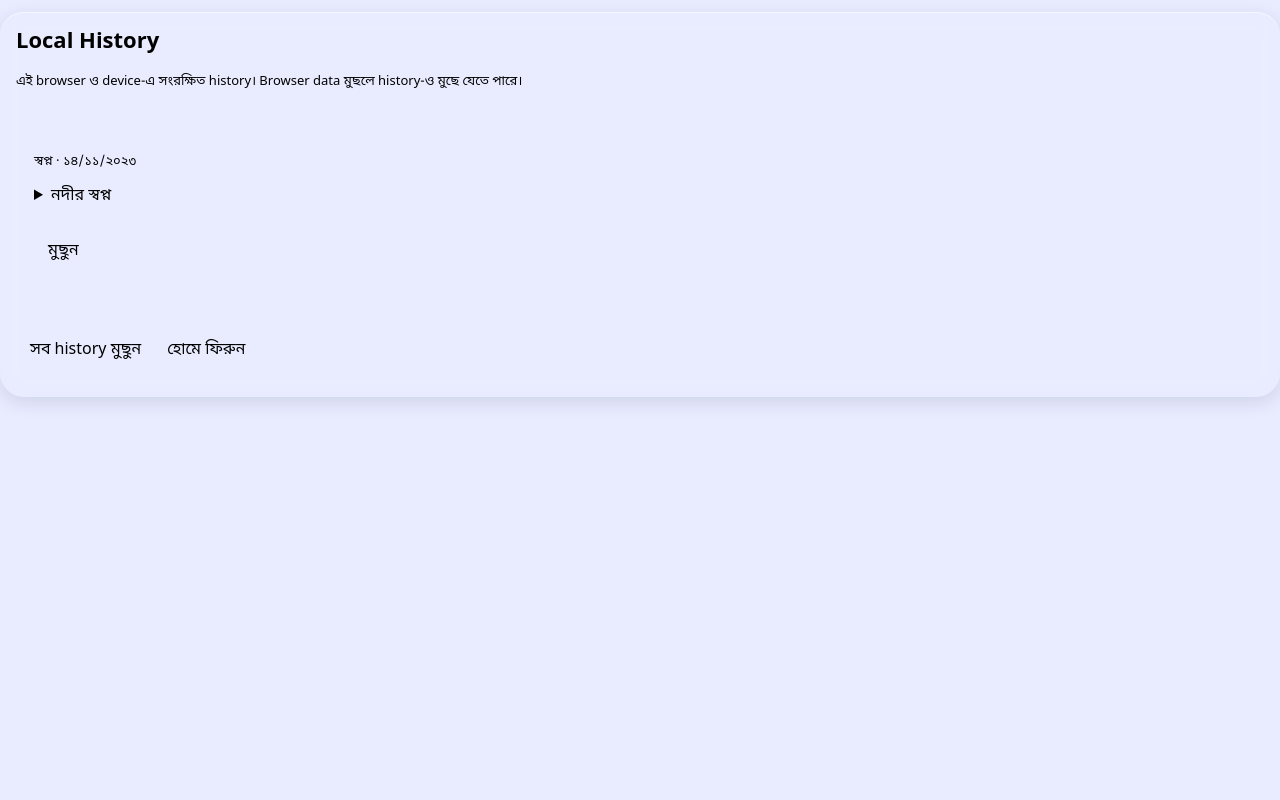
Test: preserves records after failed deletion and allows retry
Check: the heading "নদীর স্বপ্ন" is shown, box [51, 185, 111, 207]
Click the button "মুছুন".
click(63, 251)  # box [34, 229, 93, 273]
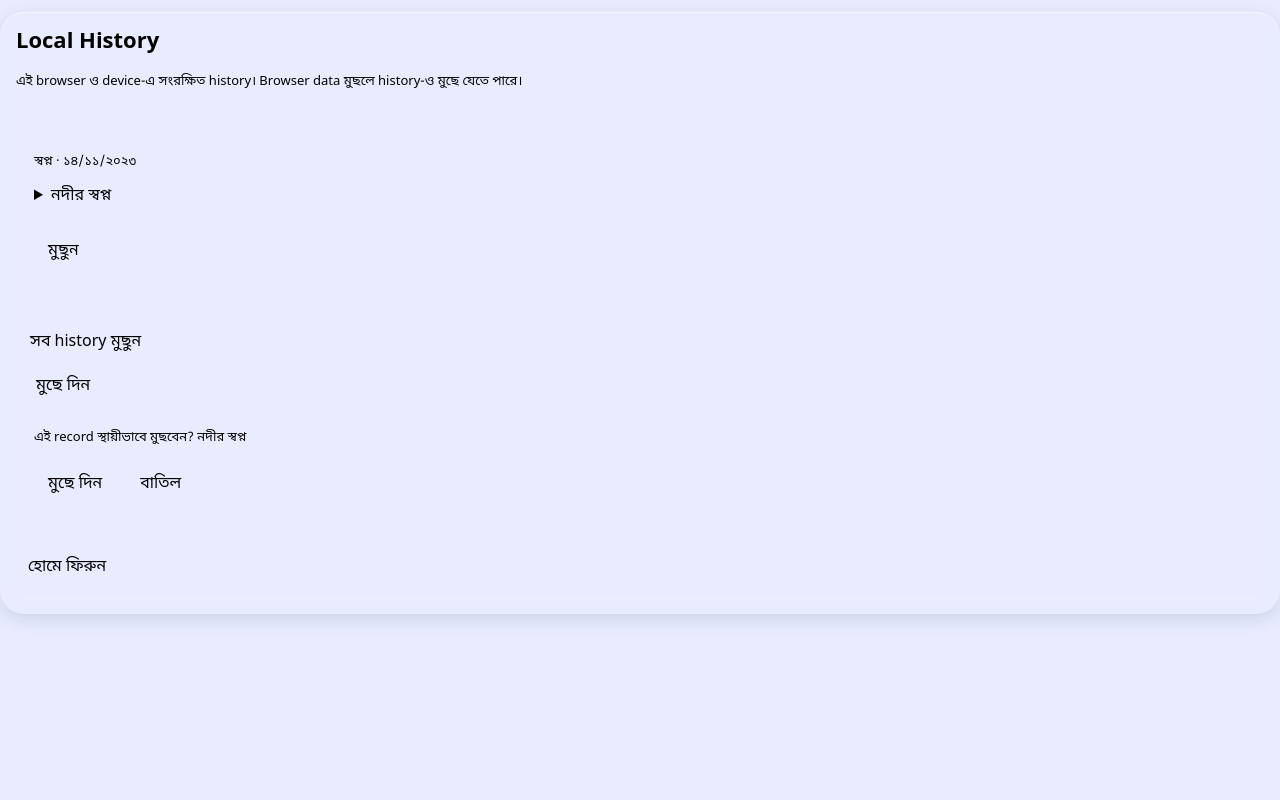
Click the button "মুছে দিন".
click(75, 484)  # box [34, 462, 116, 506]
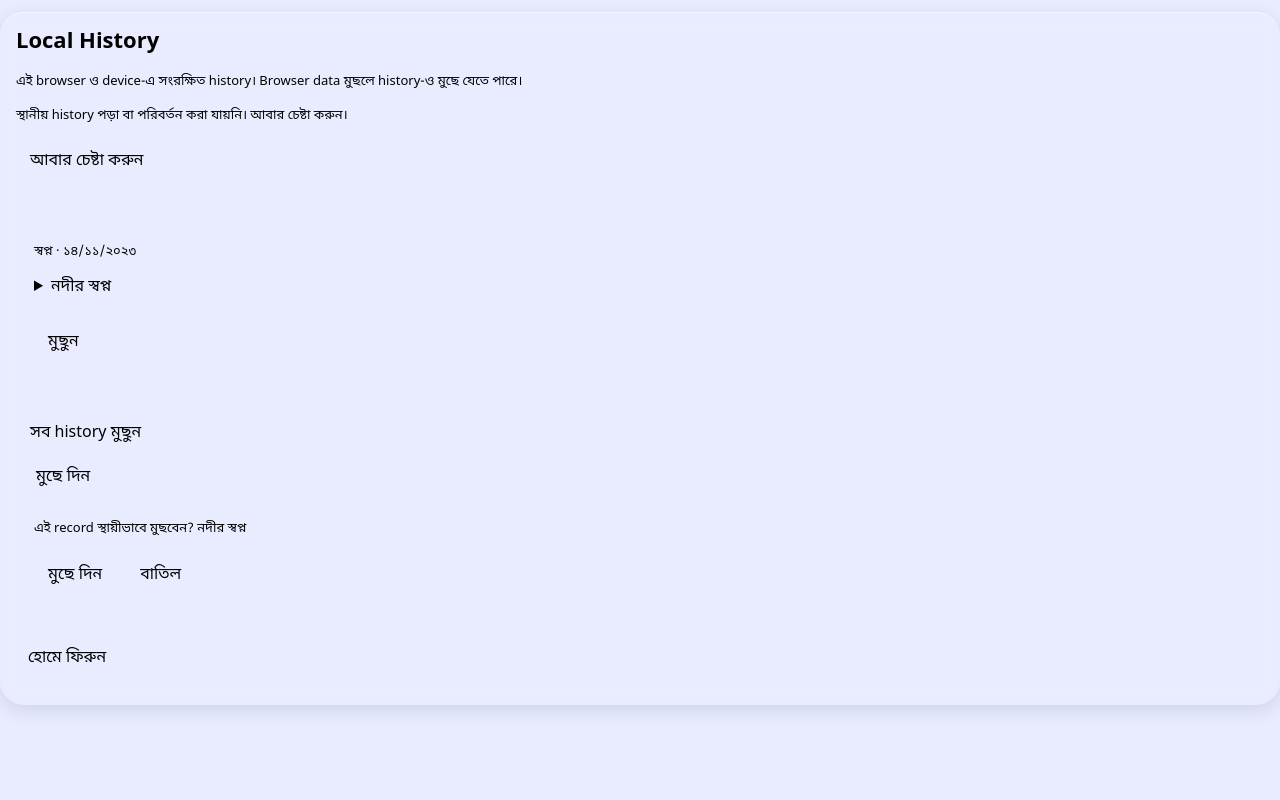
Check: the message does not show "private storage error", box [16, 107, 348, 183]
Check: the heading "নদীর স্বপ্ন" is shown, box [51, 276, 111, 298]
Click the button "মুছে দিন".
click(75, 575)  # box [34, 553, 116, 597]
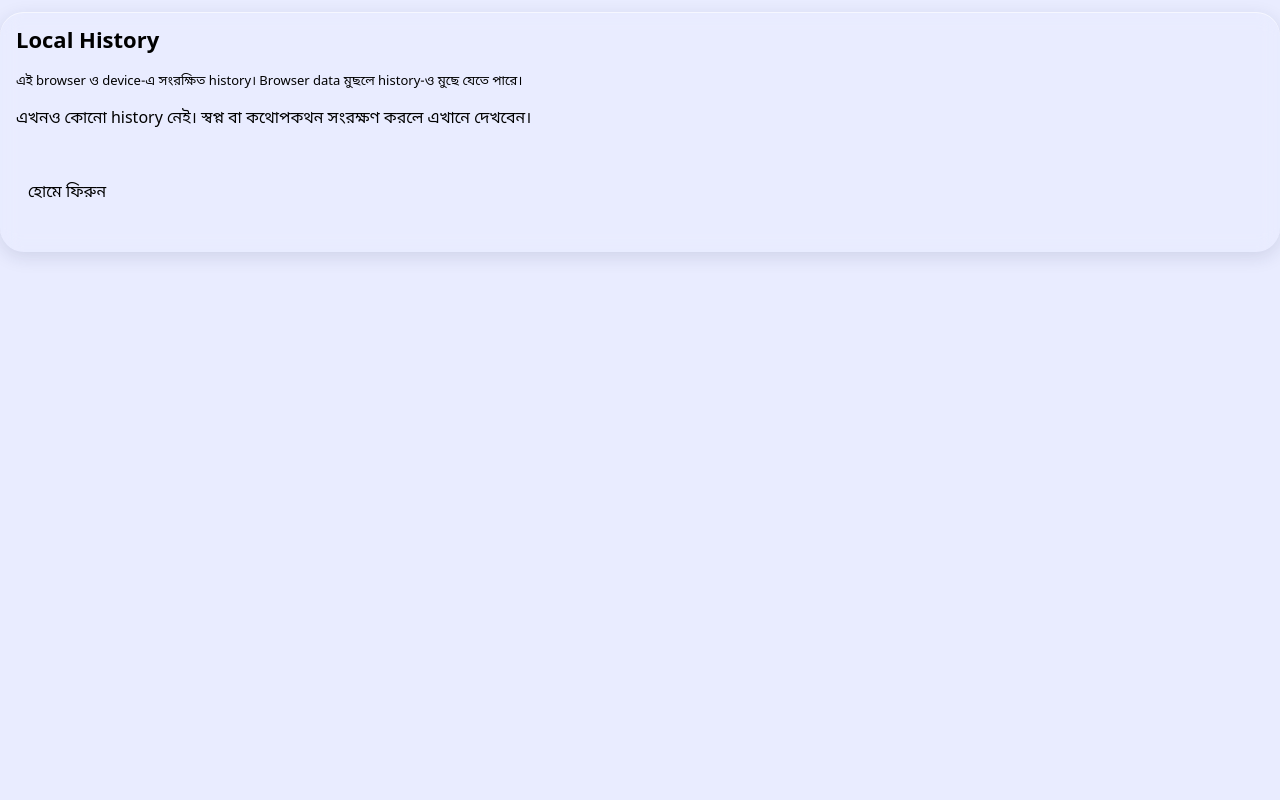
Check: the text "এখনও কোনো history নেই" is shown, box [16, 108, 531, 130]
